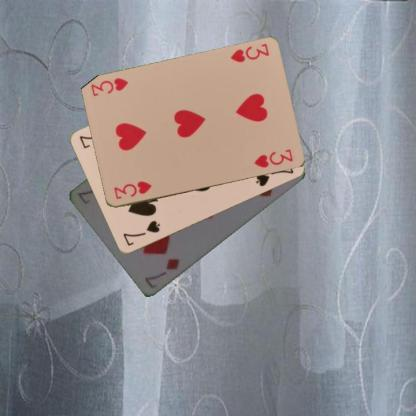3h: (228, 41, 270, 64), (111, 178, 152, 200)
7d: (141, 256, 181, 291)
7s: (120, 218, 161, 248)
